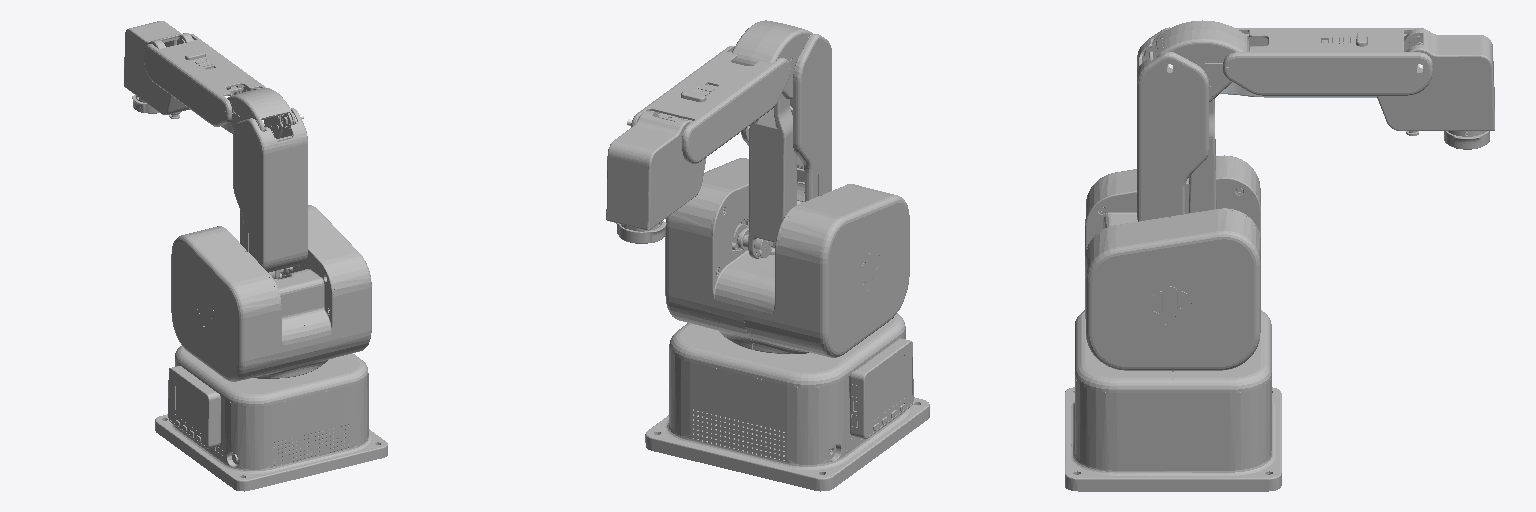
URDF robot description (firefighter):
<?xml version="1.0" encoding="utf-8"?>
<!-- This URDF was automatically created by SolidWorks to URDF Exporter! Originally created by Stephen Brawner (brawner@gmail.com) 
     Commit Version: 1.6.0-4-g7f85cfe  Build Version: 1.6.7995.38578
     For more information, please see http://wiki.ros.org/sw_urdf_exporter -->
<robot
  name="firefighter">
  <link name="world"/>
  <joint name="world_to_base" type="fixed">
    <parent link="world"/>
    <child link="base_link"/>
    <origin xyz="0 0 0" rpy="0 0 0"/>
  </joint>
  <link
    name="base_link">
    <inertial>
      <origin
        xyz="0.000234552487018738 -0.00767112263858946 0.0432868616459074"
        rpy="0 0 0" />
      <mass
        value="0.435296505947694" />
      <inertia
        ixx="0.00112550875496297"
        ixy="3.22445189577691E-06"
        ixz="-3.46337156728296E-06"
        iyy="0.000992900095204562"
        iyz="-6.49894300878283E-06"
        izz="0.00186768274374626" />
    </inertial>
    <visual>
      <origin
        xyz="0 0 0"
        rpy="0 0 0" />
      <geometry>
        <mesh
          filename="package://mycobot_description/urdf/ultraArm_p1/base_link.STL" />
      </geometry>
      <material
        name="">
        <color
          rgba="0.752941176470588 0.752941176470588 0.752941176470588 1" />
      </material>
    </visual>
    <collision>
      <origin
        xyz="0 0 0"
        rpy="0 0 0" />
      <geometry>
        <mesh
          filename="package://mycobot_description/urdf/ultraArm_p1/base_link.STL" />
      </geometry>
    </collision>
  </link>
  <link
    name="J1_Link">
    <inertial>
      <origin
        xyz="0.000626155020449478 0.00200962243655586 0.063324060670793"
        rpy="0 0 0" />
      <mass
        value="0.390185141585949" />
      <inertia
        ixx="0.00101930778681514"
        ixy="4.50230097503923E-07"
        ixz="1.42862416859721E-06"
        iyy="0.000474725690830821"
        iyz="-3.06934069633223E-05"
        izz="0.000708307792359435" />
    </inertial>
    <visual>
      <origin
        xyz="0 0 0"
        rpy="0 0 0" />
      <geometry>
        <mesh
          filename="package://mycobot_description/urdf/ultraArm_p1/J1_Link.STL" />
      </geometry>
      <material
        name="">
        <color
          rgba="0.752941176470588 0.752941176470588 0.752941176470588 1" />
      </material>
    </visual>
    <collision>
      <origin
        xyz="0 0 0"
        rpy="0 0 0" />
      <geometry>
        <mesh
          filename="package://mycobot_description/urdf/ultraArm_p1/J1_Link.STL" />
      </geometry>
    </collision>
  </link>
  <joint
    name="J1"
    type="revolute">
    <origin
      xyz="-0.000100404778856366 0 0.0859999999999997"
      rpy="0 0 0" />
    <parent
      link="base_link" />
    <child
      link="J1_Link" />
    <axis
      xyz="0 0 1" />
    <limit
      lower="-2.87"
      upper="2.87"
      effort="0"
      velocity="0" />
  </joint>
  <link
    name="J2_Link">
    <inertial>
      <origin
        xyz="-0.0156461678871911 0.00107285613131287 0.063043860223879"
        rpy="0 0 0" />
      <mass
        value="0.0395822221402214" />
      <inertia
        ixx="5.94205560035595E-05"
        ixy="-2.49445692973498E-09"
        ixz="2.76622611183092E-07"
        iyy="6.2875014734691E-05"
        iyz="4.58330550335126E-07"
        izz="6.265370704591E-06" />
    </inertial>
    <visual>
      <origin
        xyz="0 0 0"
        rpy="0 0 0" />
      <geometry>
        <mesh
          filename="package://mycobot_description/urdf/ultraArm_p1/J2_Link.STL" />
      </geometry>
      <material
        name="">
        <color
          rgba="0.752941176470588 0.752941176470588 0.752941176470588 1" />
      </material>
    </visual>
    <collision>
      <origin
        xyz="0 0 0"
        rpy="0 0 0" />
      <geometry>
        <mesh
          filename="package://mycobot_description/urdf/ultraArm_p1/J2_Link.STL" />
      </geometry>
    </collision>
  </link>
  <joint
    name="J2"
    type="revolute">
    <origin
      xyz="0.0161 0.02286 0.079544"
      rpy="0 0 0" />
    <parent
      link="J1_Link" />
    <child
      link="J2_Link" />
    <axis
      xyz="-1 0 0" />
    <limit
      lower="-0.31"
      upper="1.48"
      effort="0"
      velocity="0" />
  </joint>
  <link
    name="center_Link">
    <inertial>
      <origin
        xyz="-0.0187897457227529 0.00101906185373477 0.0173619334463731"
        rpy="0 0 0" />
      <mass
        value="0.0349898434561973" />
      <inertia
        ixx="1.00794527545181E-05"
        ixy="-2.29801312148124E-08"
        ixz="-4.41482975191739E-08"
        iyy="4.41206249735219E-06"
        iyz="-7.83827014397297E-08"
        izz="6.86634338244991E-06" />
    </inertial>
    <visual>
      <origin
        xyz="0 0 0"
        rpy="0 0 0" />
      <geometry>
        <mesh
          filename="package://mycobot_description/urdf/ultraArm_p1/center_Link.STL" />
      </geometry>
      <material
        name="">
        <color
          rgba="0.752941176470588 0.752941176470588 0.752941176470588 1" />
      </material>
    </visual>
    <collision>
      <origin
        xyz="0 0 0"
        rpy="0 0 0" />
      <geometry>
        <mesh
          filename="package://mycobot_description/urdf/ultraArm_p1/center_Link.STL" />
      </geometry>
    </collision>
  </link>
  <joint
    name="center"
    type="revolute">
    <origin
      xyz="0.00335 -0.00036008 0.14036"
      rpy="0 0 0" />
    <parent
      link="J2_Link" />
    <child
      link="center_Link" />
    <axis
      xyz="-1 0 0" />
    <limit
      lower="-1.48"
      upper="0.31"
      effort="0"
      velocity="0" />
    <mimic
      joint="J2"
      multiplier="-1"
      offset="0" />
  </joint>
  <link
    name="CENTER_V_2_Link">
    <inertial>
      <origin
        xyz="-0.0190007063693137 0.0719740266811395 -0.00134149418125751"
        rpy="0 0 0" />
      <mass
        value="0.0558803270642906" />
      <inertia
        ixx="8.64437583518047E-05"
        ixy="-2.41184661708621E-11"
        ixz="7.22346955756058E-12"
        iyy="2.60440960786068E-05"
        iyz="5.17646386283779E-07"
        izz="0.000103397929789029" />
    </inertial>
    <visual>
      <origin
        xyz="0 0 0"
        rpy="0 0 0" />
      <geometry>
        <mesh
          filename="package://mycobot_description/urdf/ultraArm_p1/CENTER_V_2_Link.STL" />
      </geometry>
      <material
        name="">
        <color
          rgba="0.752941176470588 0.752941176470588 0.752941176470588 1" />
      </material>
    </visual>
    <collision>
      <origin
        xyz="0 0 0"
        rpy="0 0 0" />
      <geometry>
        <mesh
          filename="package://mycobot_description/urdf/ultraArm_p1/CENTER_V_2_Link.STL" />
      </geometry>
    </collision>
  </link>
  <joint
    name="CENTER_V_2"
    type="revolute">
    <origin
      xyz="0.00015 0.025 0.025"
      rpy="0 0 0" />
    <parent
      link="center_Link" />
    <child
      link="CENTER_V_2_Link" />
    <axis
      xyz="-1 0 0" />
    <limit
      lower="-0.017"
      upper="1.91"
      effort="0"
      velocity="0" />
	<mimic
      joint="J3"
      multiplier="1"
      offset="0" />
  </joint>
  <link
    name="J3_4_Link">
    <inertial>
      <origin
        xyz="0.00900000000001357 1.18238752122579E-14 -4.27435864480685E-15"
        rpy="0 0 0" />
      <mass
        value="0.000117809724509617" />
      <inertia
        ixx="3.68155389092554E-10"
        ixy="3.25459245780133E-24"
        ixz="-1.22383338348049E-25"
        iyy="5.37506868075128E-10"
        iyz="3.63507105125485E-27"
        izz="5.37506868075128E-10" />
    </inertial>
    <visual>
      <origin
        xyz="0 0 0"
        rpy="0 0 0" />
      <geometry>
        <mesh
          filename="package://mycobot_description/urdf/ultraArm_p1/J3_4_Link.STL" />
      </geometry>
      <material
        name="">
        <color
          rgba="1 1 1 1" />
      </material>
    </visual>
    <collision>
      <origin
        xyz="0 0 0"
        rpy="0 0 0" />
      <geometry>
        <mesh
          filename="package://mycobot_description/urdf/ultraArm_p1/J3_4_Link.STL" />
      </geometry>
    </collision>
  </link>
  <joint
    name="J3_4"
    type="revolute">
    <origin
      xyz="0.001 0.14 0"
      rpy="0 0 0" />
    <parent
      link="CENTER_V_2_Link" />
    <child
      link="J3_4_Link" />
    <axis
      xyz="-1 0 0" />
    <limit
      lower="-1.91"
      upper="0.017"
      effort="0"
      velocity="0" />
    <mimic
      joint="J3"
      multiplier="-1"
      offset="0" />
  </joint>
  <link
    name="J3_Link">
    <inertial>
      <origin
        xyz="-0.0044082736506423 0.0656069911035359 -0.00105913016709042"
        rpy="0 0 0" />
      <mass
        value="0.0238706707614233" />
      <inertia
        ixx="6.05667224596182E-05"
        ixy="1.93806457455325E-07"
        ixz="-6.01435887437457E-09"
        iyy="1.50491175718531E-06"
        iyz="8.94444640529844E-07"
        izz="6.06453490273104E-05" />
    </inertial>
    <visual>
      <origin
        xyz="0 0 0"
        rpy="0 0 0" />
      <geometry>
        <mesh
          filename="package://mycobot_description/urdf/ultraArm_p1/J3_Link.STL" />
      </geometry>
      <material
        name="">
        <color
          rgba="0.898039215686275 0.913725490196078 0.925490196078431 1" />
      </material>
    </visual>
    <collision>
      <origin
        xyz="0 0 0"
        rpy="0 0 0" />
      <geometry>
        <mesh
          filename="package://mycobot_description/urdf/ultraArm_p1/J3_Link.STL" />
      </geometry>
    </collision>
  </link>
  <joint
    name="J3"
    type="revolute">
    <origin
      xyz="-0.01485 0 0"
      rpy="0 0 0" />
    <parent
      link="center_Link" />
    <child
      link="J3_Link" />
    <axis
      xyz="-1 0 0" />
    <limit
      lower="-0.017"
      upper="1.91"
      effort="0"
      velocity="0" />
  </joint>
  <link
    name="J3_5_Link">
    <inertial>
      <origin
        xyz="-0.00949681573507397 0.0373495117701189 -0.00650863029516446"
        rpy="0 0 0" />
      <mass
        value="0.0663947658214263" />
      <inertia
        ixx="3.81782816371151E-05"
        ixy="5.23598175713856E-09"
        ixz="7.53105958710685E-09"
        iyy="3.10268434305983E-05"
        iyz="5.17559604102817E-06"
        izz="3.08894690696647E-05" />
    </inertial>
    <visual>
      <origin
        xyz="0 0 0"
        rpy="0 0 0" />
      <geometry>
        <mesh
          filename="package://mycobot_description/urdf/ultraArm_p1/J3_5_Link.STL" />
      </geometry>
      <material
        name="">
        <color
          rgba="0.752941176470588 0.752941176470588 0.752941176470588 1" />
      </material>
    </visual>
    <collision>
      <origin
        xyz="0 0 0"
        rpy="0 0 0" />
      <geometry>
        <mesh
          filename="package://mycobot_description/urdf/ultraArm_p1/J3_5_Link.STL" />
      </geometry>
    </collision>
  </link>
  <joint
    name="J3_5"
    type="revolute">
    <origin
      xyz="0.0055 0.14 0"
      rpy="0 0 0" />
    <parent
      link="J3_Link" />
    <child
      link="J3_5_Link" />
    <axis
      xyz="-1 0 0" />
    <limit
      lower="-1.91"
      upper="0.017"
      effort="0"
      velocity="0" />
    <mimic
      joint="J3"
      multiplier="-1"
      offset="0" />
  </joint>
  <link
    name="J4_Link">
    <inertial>
      <origin
        xyz="1.86348434675043E-05 -2.22745078254372E-06 -0.00910170499041335"
        rpy="0 0 0" />
      <mass
        value="0.00948835945053853" />
      <inertia
        ixx="8.40099075841365E-07"
        ixy="-8.29529987817867E-13"
        ixz="5.92018979492285E-10"
        iyy="9.61998027723115E-07"
        iyz="-1.37987865064839E-12"
        izz="1.57063877104609E-06" />
    </inertial>
    <visual>
      <origin
        xyz="0 0 0"
        rpy="0 0 0" />
      <geometry>
        <mesh
          filename="package://mycobot_description/urdf/ultraArm_p1/J4_Link.STL" />
      </geometry>
      <material
        name="">
        <color
          rgba="0.752941176470588 0.752941176470588 0.752941176470588 1" />
      </material>
    </visual>
    <collision>
      <origin
        xyz="0 0 0"
        rpy="0 0 0" />
      <geometry>
        <mesh
          filename="package://mycobot_description/urdf/ultraArm_p1/J4_Link.STL" />
      </geometry>
    </collision>
  </link>
  <joint
    name="J4"
    type="revolute">
    <origin
      xyz="-0.00950000000000579 0.0609999386572151 -0.0305000950662462"
      rpy="0 0 0" />
    <parent
      link="J3_5_Link" />
    <child
      link="J4_Link" />
    <axis
      xyz="0 0 1" />
    <limit
      lower="-3.12"
      upper="3.12"
      effort="0"
      velocity="0" />
  </joint>
  <link
    name="FIX2_Link">
    <inertial>
      <origin
        xyz="0.00900000000001357 1.18238752122579E-14 -4.27435864480685E-15"
        rpy="0 0 0" />
      <mass
        value="0.000117809724509617" />
      <inertia
        ixx="3.68155389092554E-10"
        ixy="3.25459245780133E-24"
        ixz="-1.22383338348049E-25"
        iyy="5.37506868075128E-10"
        iyz="3.63507105125485E-27"
        izz="5.37506868075128E-10" />
    </inertial>
    <visual>
      <origin
        xyz="0 0 0"
        rpy="0 0 0" />
      <geometry>
        <mesh
          filename="package://mycobot_description/urdf/ultraArm_p1/FIX2_Link.STL" />
      </geometry>
      <material
        name="">
        <color
          rgba="1 1 1 1" />
      </material>
    </visual>
    <collision>
      <origin
        xyz="0 0 0"
        rpy="0 0 0" />
      <geometry>
        <mesh
          filename="package://mycobot_description/urdf/ultraArm_p1/FIX2_Link.STL" />
      </geometry>
    </collision>
  </link>
  <joint
    name="FIX2"
    type="fixed">
    <origin
      xyz="0.0104999999999947 0.025000000023119 0.0249999447386166"
      rpy="0 0 0" />
    <parent
      link="J3_5_Link" />
    <child
      link="FIX2_Link" />
    <axis
      xyz="0 0 0" />
  </joint>
  <link
    name="fix1_Link">
    <inertial>
      <origin
        xyz="0.00999999999999317 8.42008754387003E-14 7.21644966006352E-15"
        rpy="0 0 0" />
      <mass
        value="0.000117809724509617" />
      <inertia
        ixx="3.68155389092554E-10"
        ixy="2.80206665992541E-24"
        ixz="-9.04261470380209E-26"
        iyy="5.37506868075128E-10"
        iyz="-3.20694046077688E-26"
        izz="5.37506868075128E-10" />
    </inertial>
    <visual>
      <origin
        xyz="0 0 0"
        rpy="0 0 0" />
      <geometry>
        <mesh
          filename="package://mycobot_description/urdf/ultraArm_p1/fix1_Link.STL" />
      </geometry>
      <material
        name="">
        <color
          rgba="1 1 1 1" />
      </material>
    </visual>
    <collision>
      <origin
        xyz="0 0 0"
        rpy="0 0 0" />
      <geometry>
        <mesh
          filename="package://mycobot_description/urdf/ultraArm_p1/fix1_Link.STL" />
      </geometry>
    </collision>
  </link>
  <joint
    name="fix1"
    type="fixed">
    <origin
      xyz="0.000149999999997076 -0.0250000000000165 0.0249999999999976"
      rpy="0 0 0" />
    <parent
      link="center_Link" />
    <child
      link="fix1_Link" />
    <axis
      xyz="0 0 0" />
  </joint>
  <link
    name="J2_2_Link">
    <inertial>
      <origin
        xyz="-0.0239539648841618 -0.00726185200873119 0.0695590214423053"
        rpy="0 0 0" />
      <mass
        value="0.0673595203554836" />
      <inertia
        ixx="0.000129740052898126"
        ixy="-1.35166800943009E-08"
        ixz="6.29768526602604E-08"
        iyy="0.000141302345810843"
        iyz="-5.51018113079718E-06"
        izz="4.05085498723547E-05" />
    </inertial>
    <visual>
      <origin
        xyz="0 0 0"
        rpy="0 0 0" />
      <geometry>
        <mesh
          filename="package://mycobot_description/urdf/ultraArm_p1/J2_2_Link.STL" />
      </geometry>
      <material
        name="">
        <color
          rgba="0.752941176470588 0.752941176470588 0.752941176470588 1" />
      </material>
    </visual>
    <collision>
      <origin
        xyz="0 0 0"
        rpy="0 0 0" />
      <geometry>
        <mesh
          filename="package://mycobot_description/urdf/ultraArm_p1/J2_2_Link.STL" />
      </geometry>
    </collision>
  </link>
  <joint
    name="J2_2"
    type="revolute">
    <origin
      xyz="0.0241 -0.0025 0.1049"
      rpy="0 0 0" />
    <parent
      link="J1_Link" />
    <child
      link="J2_2_Link" />
    <axis
      xyz="-1 0 0" />
    <limit
      lower="-0.31"
      upper="1.48"
      effort="0"
      velocity="0" />
    <mimic
      joint="J2"
      multiplier="1"
      offset="0" />
  </joint>
  <link
    name="center_v_1_Link">
    <inertial>
      <origin
        xyz="0.00999999999999317 8.42008754387003E-14 7.21644966006352E-15"
        rpy="0 0 0" />
      <mass
        value="0.000117809724509617" />
      <inertia
        ixx="3.68155389092554E-10"
        ixy="2.80206665992541E-24"
        ixz="-9.04261470380209E-26"
        iyy="5.37506868075128E-10"
        iyz="-3.20694046077688E-26"
        izz="5.37506868075128E-10" />
    </inertial>
    <visual>
      <origin
        xyz="0 0 0"
        rpy="0 0 0" />
      <geometry>
        <mesh
          filename="package://mycobot_description/urdf/ultraArm_p1/center_v_1_Link.STL" />
      </geometry>
      <material
        name="">
        <color
          rgba="1 1 1 1" />
      </material>
    </visual>
    <collision>
      <origin
        xyz="0 0 0"
        rpy="0 0 0" />
      <geometry>
        <mesh
          filename="package://mycobot_description/urdf/ultraArm_p1/center_v_1_Link.STL" />
      </geometry>
    </collision>
  </link>
  <joint
    name="center_v_1"
    type="revolute">
    <origin
      xyz="-0.0045 0 0.14"
      rpy="0 0 0" />
    <parent
      link="J2_2_Link" />
    <child
      link="center_v_1_Link" />
    <axis
      xyz="-1 0 0" />
    <limit
      lower="-1.48"
      upper="0.31"
      effort="0"
      velocity="0" />
    <mimic
      joint="J2"
      multiplier="-1"
      offset="0" />
  </joint>
</robot>

--- Facts derived from the render (not from the file) ---
3 views of the same robot in one strip: view 1: azimuth 30°, elevation 25°; view 2: azimuth 150°, elevation 25°; view 3: azimuth 270°, elevation 25° (orthographic).
Robot: firefighter — 14 links, 13 joints (10 revolute, 3 fixed); root link world; default pose: all joints at 0.
Visible links, largest first — view 1: J1_Link, base_link, J2_2_Link, CENTER_V_2_Link, J3_5_Link, center_Link; view 2: J1_Link, base_link, CENTER_V_2_Link, J3_5_Link, J2_Link, J2_2_Link, center_Link, J4_Link; view 3: J1_Link, base_link, CENTER_V_2_Link, J2_2_Link, J3_5_Link, center_Link, J2_Link, J4_Link.
Link boxes in pixels (x1,y1,x2,y2): J1_Link: [171, 205, 371, 381]; base_link: [155, 346, 387, 491]; J2_2_Link: [233, 108, 307, 272]; CENTER_V_2_Link: [144, 34, 265, 126]; J3_5_Link: [124, 21, 193, 118]; center_Link: [227, 88, 294, 138]; J1_Link: [665, 158, 909, 357]; base_link: [645, 313, 929, 491]; CENTER_V_2_Link: [631, 46, 789, 163]; J3_5_Link: [606, 111, 706, 230]; J2_Link: [748, 94, 796, 258]; J2_2_Link: [741, 34, 831, 201]; center_Link: [732, 20, 812, 99]; J4_Link: [616, 221, 666, 243]; J1_Link: [1085, 155, 1260, 370]; base_link: [1065, 310, 1281, 491]; CENTER_V_2_Link: [1223, 28, 1432, 95]; J2_2_Link: [1137, 27, 1208, 221]; J3_5_Link: [1377, 28, 1494, 135]; center_Link: [1156, 20, 1249, 101]; J2_Link: [1189, 99, 1216, 212]; J4_Link: [1444, 131, 1489, 149].
Bounding box of the posed robot: 0.1734 × 0.3274 × 0.3507 m (x, y, z).
Meshes: 13 distinct files referenced, 11 mesh visuals loaded (11 binary STL); not drawn: 2 (reference not matched to a file when rendering).
